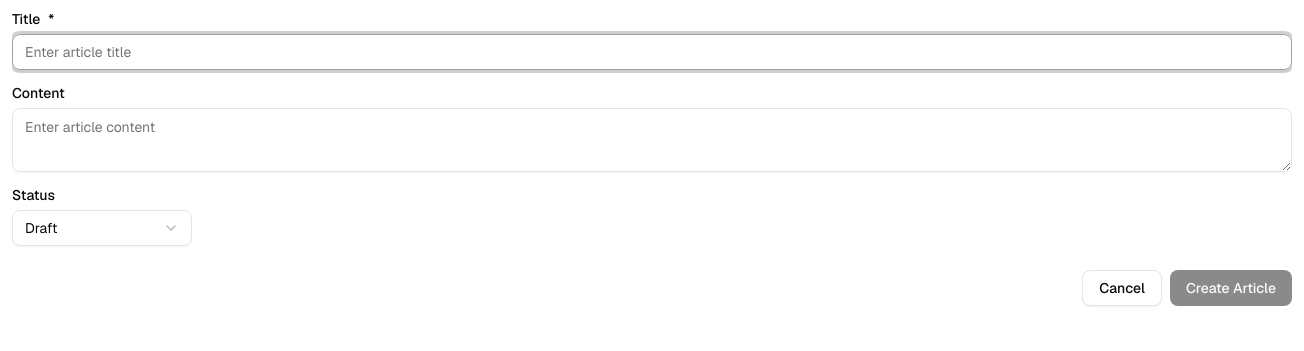
Test: ArticleForm › clears validation error when user starts typing
This screenshot has width=1304, height=351.
# Trigger validation error via dirty + clear + blur
Type "a" into the field labelled "Title *" at (652, 52), box [12,34,1292,70]
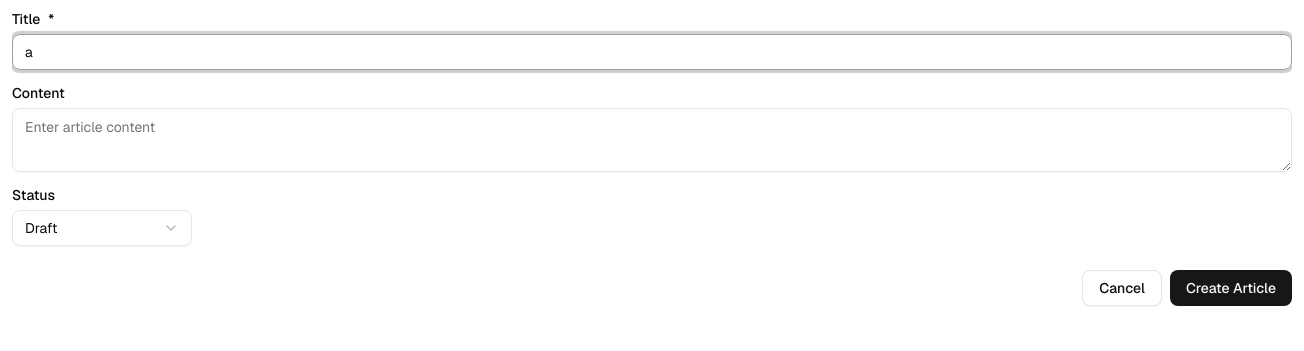
Clear the field labelled "Title *" at (652, 52), box [12,34,1292,70]
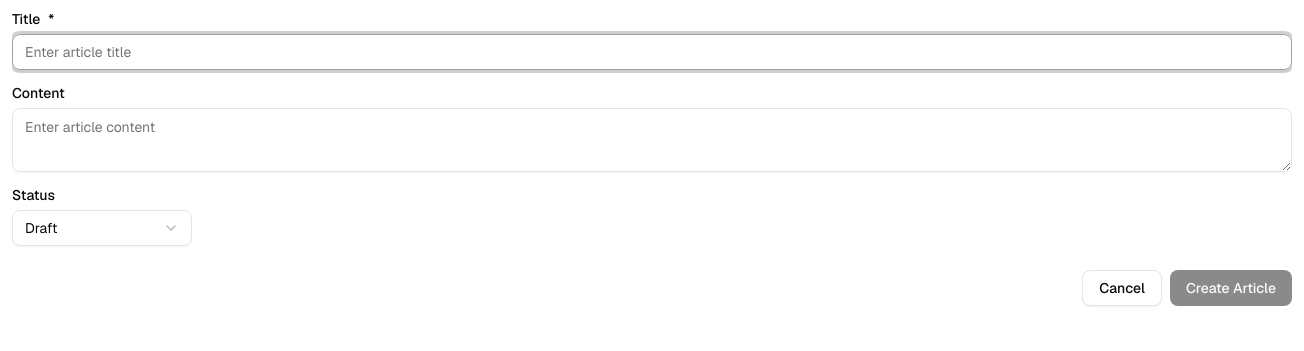
Press Tab
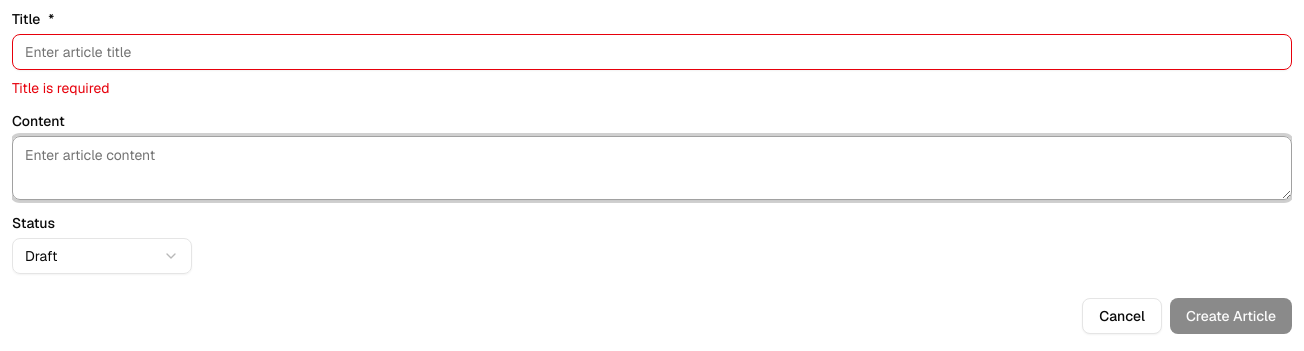
Expected: the message "Title is required" is shown, [12,79,110,97]
# Start typing to clear error
Type "b" into the field labelled "Title *" at (652, 52), box [12,34,1292,70]
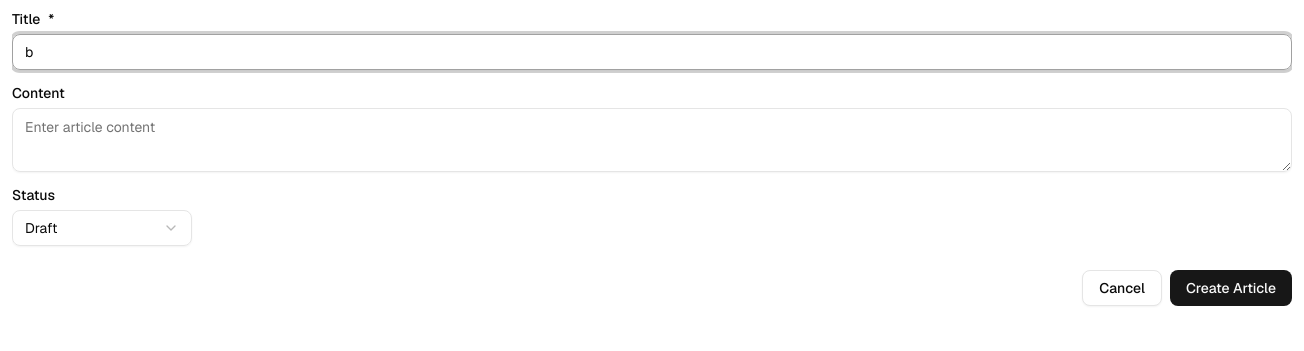
Expected: the message "Title is required" is gone
